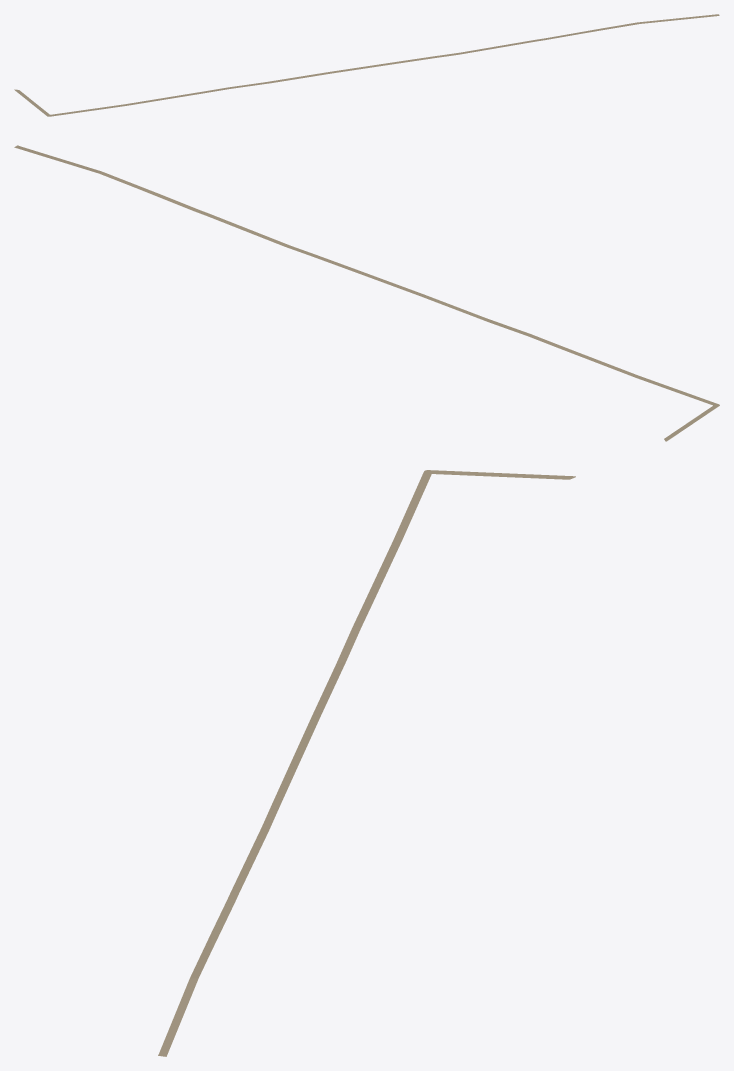
The model's file is farm_16_16_track.glb.
3 views of the same model, one above another, from view 1: azimuth 30°, elevation 25°; view 2: azimuth 150°, elevation 25°; view 3: azimuth 270°, elevation 25° (orthographic). The views are drawn at different scales.
Visible parts, largest first — view 1: geometry_0; view 2: geometry_0; view 3: geometry_0.
Boxes of the visible parts, x1=… form: geometry_0: x1=14, y1=14, x2=719, y2=116; geometry_0: x1=14, y1=145, x2=719, y2=441; geometry_0: x1=158, y1=470, x2=575, y2=1056.
Size of the model in its own units: 524 by 5.99 by 157.
